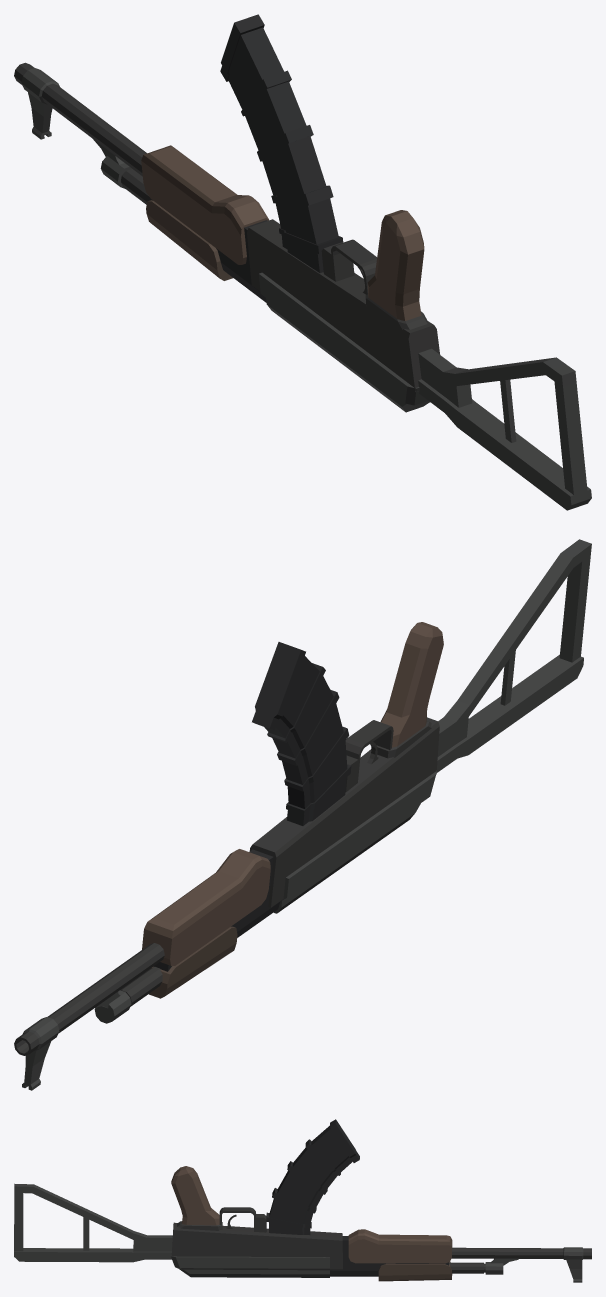
File: arme1_0.glb
The picture shows the model from 3 angles, top to bottom: view 1: azimuth 30°, elevation 25°; view 2: azimuth 150°, elevation 25°; view 3: azimuth 270°, elevation 25°; orthographic projection. The views are drawn at different scales.
Parts seen in each view (by area): view 1: AssaultRifle_4; view 2: AssaultRifle_4; view 3: AssaultRifle_4.
Part boxes in pixels (x1,y1,x2,y2): AssaultRifle_4: (14,14,591,510); AssaultRifle_4: (14,539,591,1090); AssaultRifle_4: (14,1119,591,1282).
Bounding box in the file's own units: 0.1486 × 0.7489 × 2.57.
